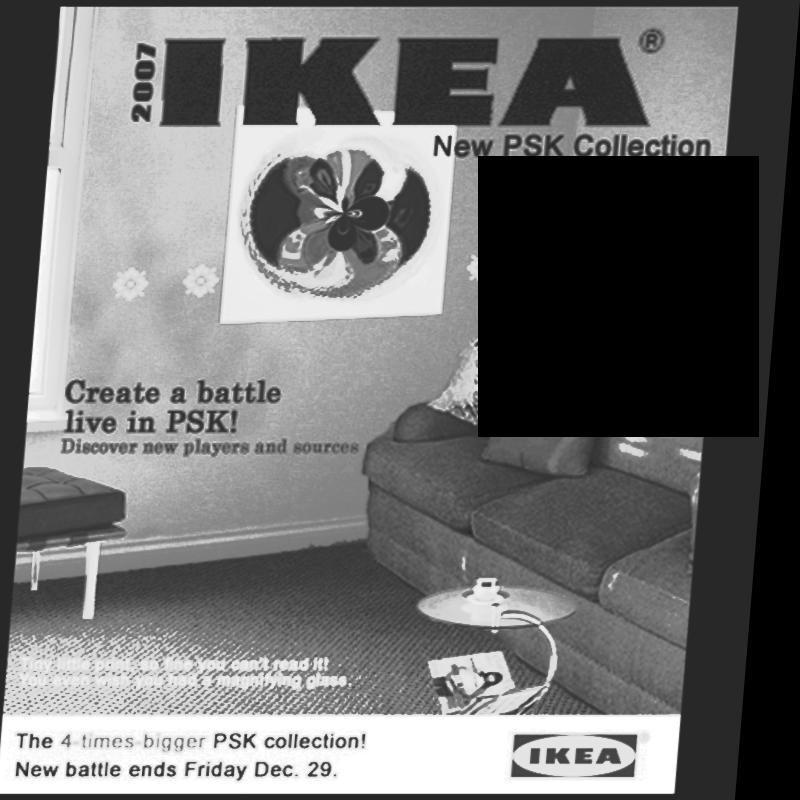pillow: (430, 331, 595, 433), (487, 365, 614, 475)
